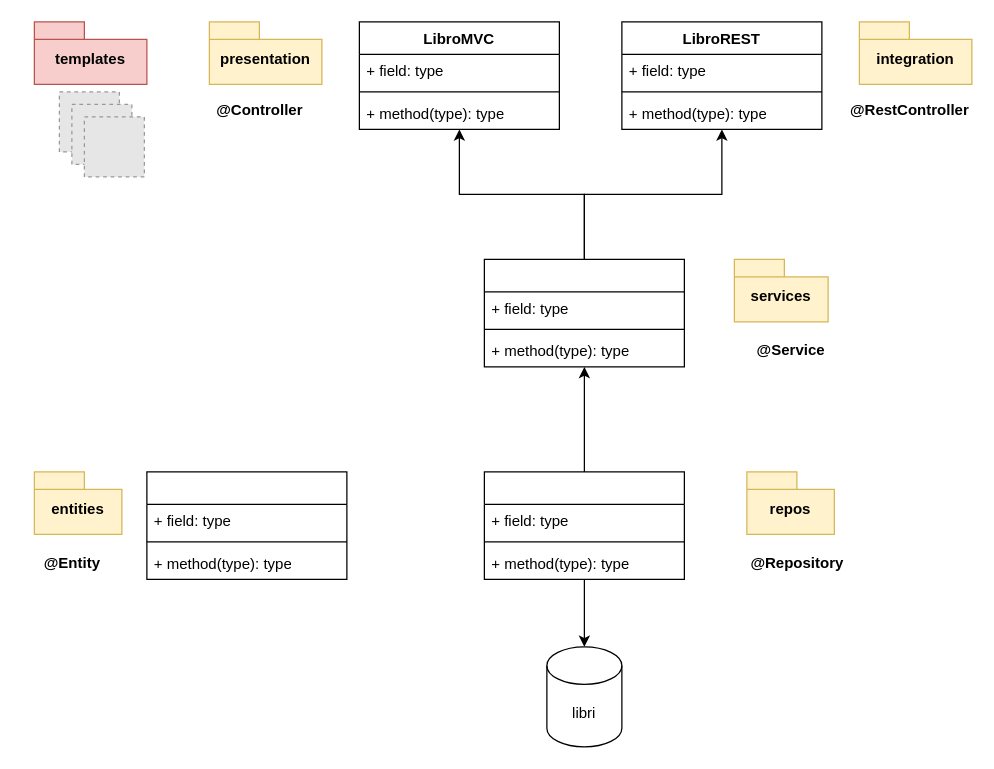
Some shapes in this 994 by 769 pixel diagram are drawn without their labels. Grey dashed boxes stand in for pictures. Here are the shapes that lost their labels. From the top down, the box of each, then its label:
(483, 258, 684, 367): LibroService
(146, 471, 347, 579): Libro
(483, 471, 684, 579): LibroDAO
